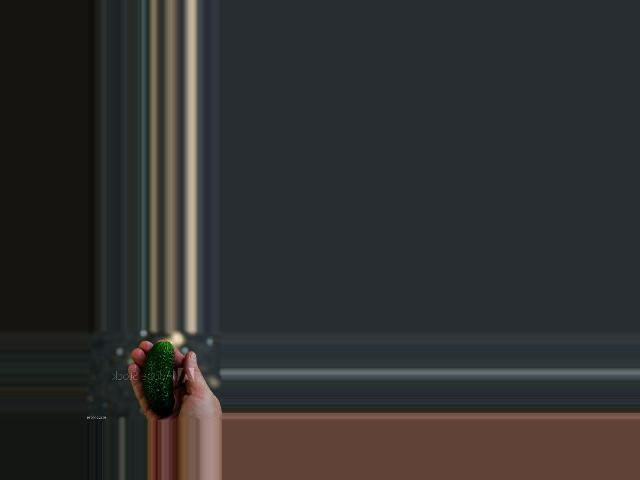cucumber: (141, 342, 173, 415)
